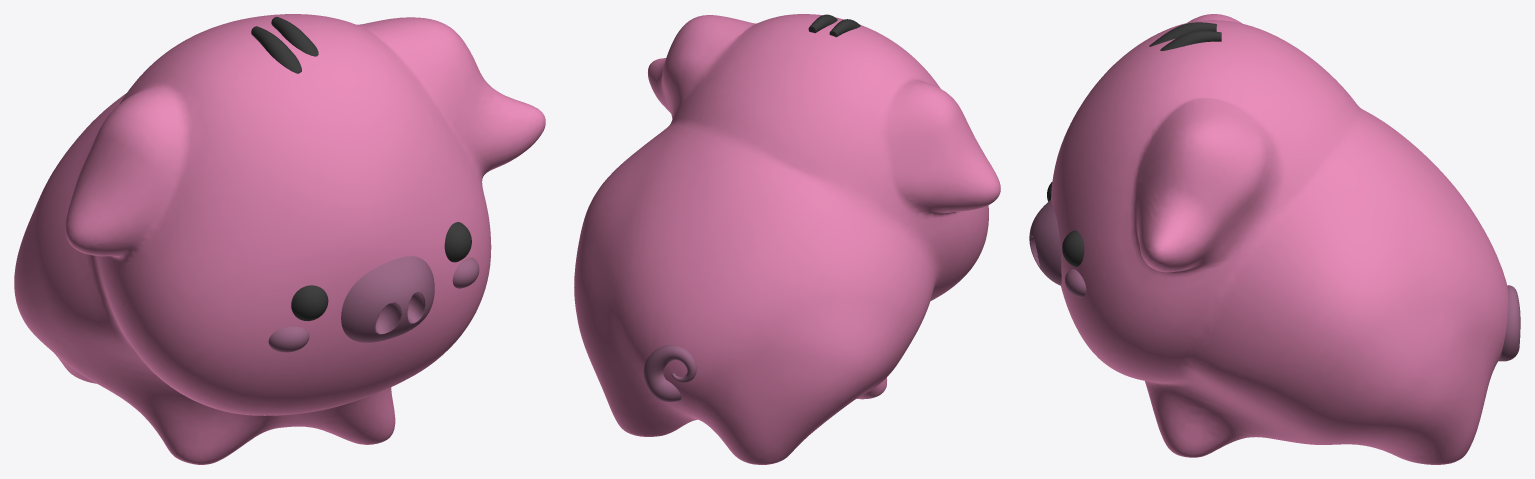
File: pig.glb
The picture shows the model from 3 angles, left to right: view 1: azimuth 30°, elevation 25°; view 2: azimuth 150°, elevation 25°; view 3: azimuth 270°, elevation 25°; orthographic projection. The views are drawn at different scales.
Parts seen in each view (by area): view 1: Sphere.003, Sphere.002, Sphere.001, Tube, Sphere; view 2: Sphere.003, Tube.001, Tube; view 3: Sphere.003, Sphere.002, Tube, Tube.001, Sphere.001.
Boxes of the visible parts, x1,y1,x2,y2 form: Sphere.003: [14, 14, 545, 464]; Sphere.002: [341, 256, 434, 342]; Sphere.001: [291, 222, 471, 320]; Tube: [251, 17, 318, 73]; Sphere: [268, 257, 479, 352]; Sphere.003: [574, 14, 1000, 464]; Tube.001: [643, 345, 696, 401]; Tube: [808, 14, 860, 37]; Sphere.003: [1051, 14, 1508, 464]; Sphere.002: [1029, 200, 1061, 285]; Tube: [1149, 22, 1221, 50]; Tube.001: [1498, 285, 1520, 361]; Sphere.001: [1047, 181, 1084, 266].
Size of the model in its own units: 1.22 by 1.1 by 1.27.
